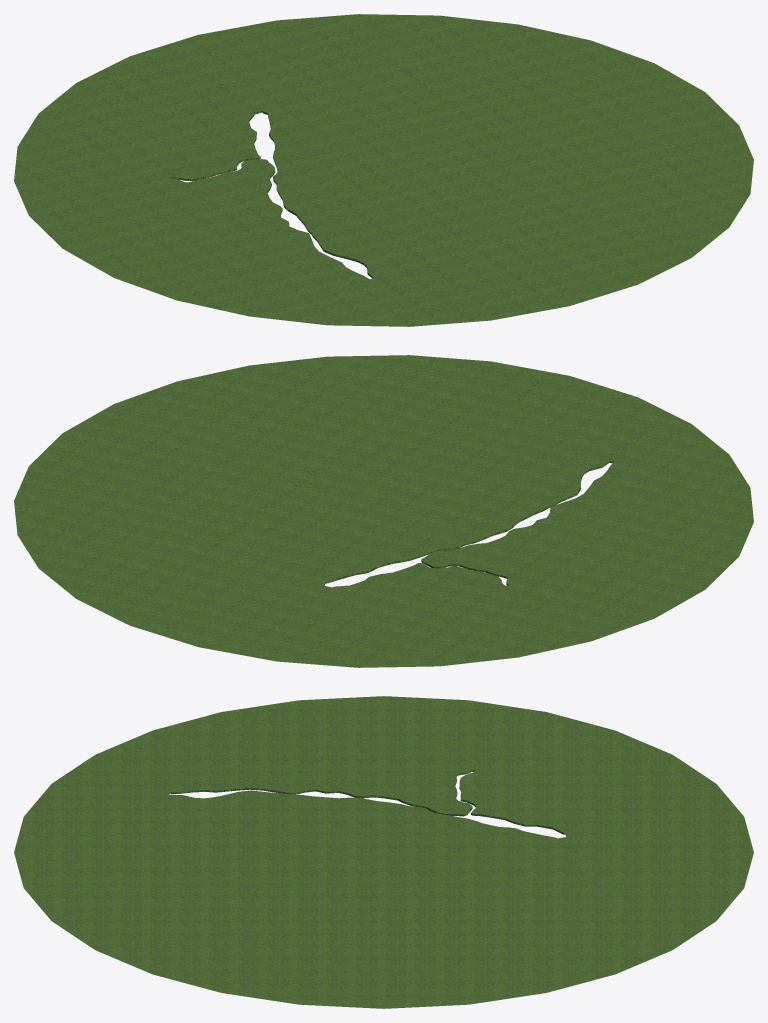
3 renders of one model, top to bottom at view 1: azimuth 30°, elevation 25°; view 2: azimuth 150°, elevation 25°; view 3: azimuth 270°, elevation 25°, orthographic.
Parts seen in each view (by area): view 1: dixing; view 2: dixing; view 3: dixing.
Boxes of the visible parts, box(x1,y1,x2,y2) form: dixing: box(14, 14, 753, 326); dixing: box(14, 355, 753, 667); dixing: box(14, 696, 753, 1008).
Bounding box in the file's own units: 3771 × 10.73 × 3771.
